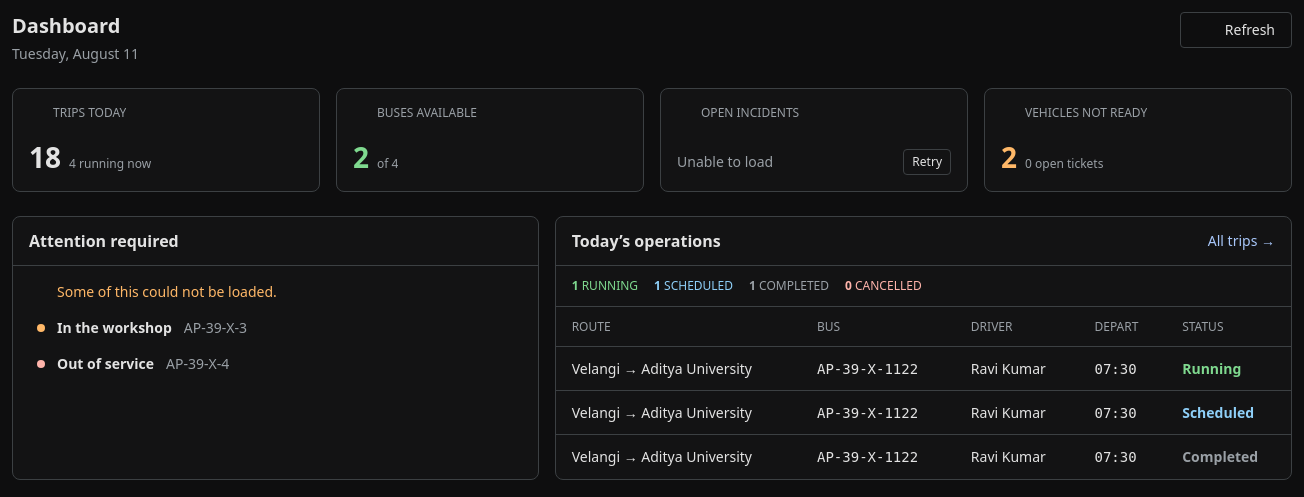
the dashboard › retries just the tile that failed
Click the button "Retry" at (927, 162), box [903,149,951,175]
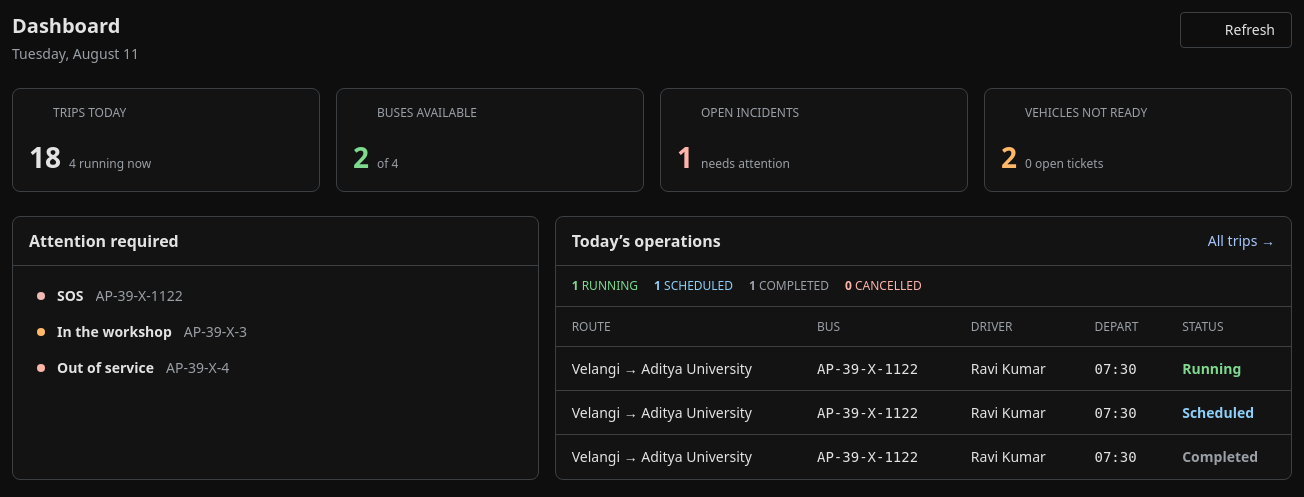
Result: the text "Unable to load" is gone
